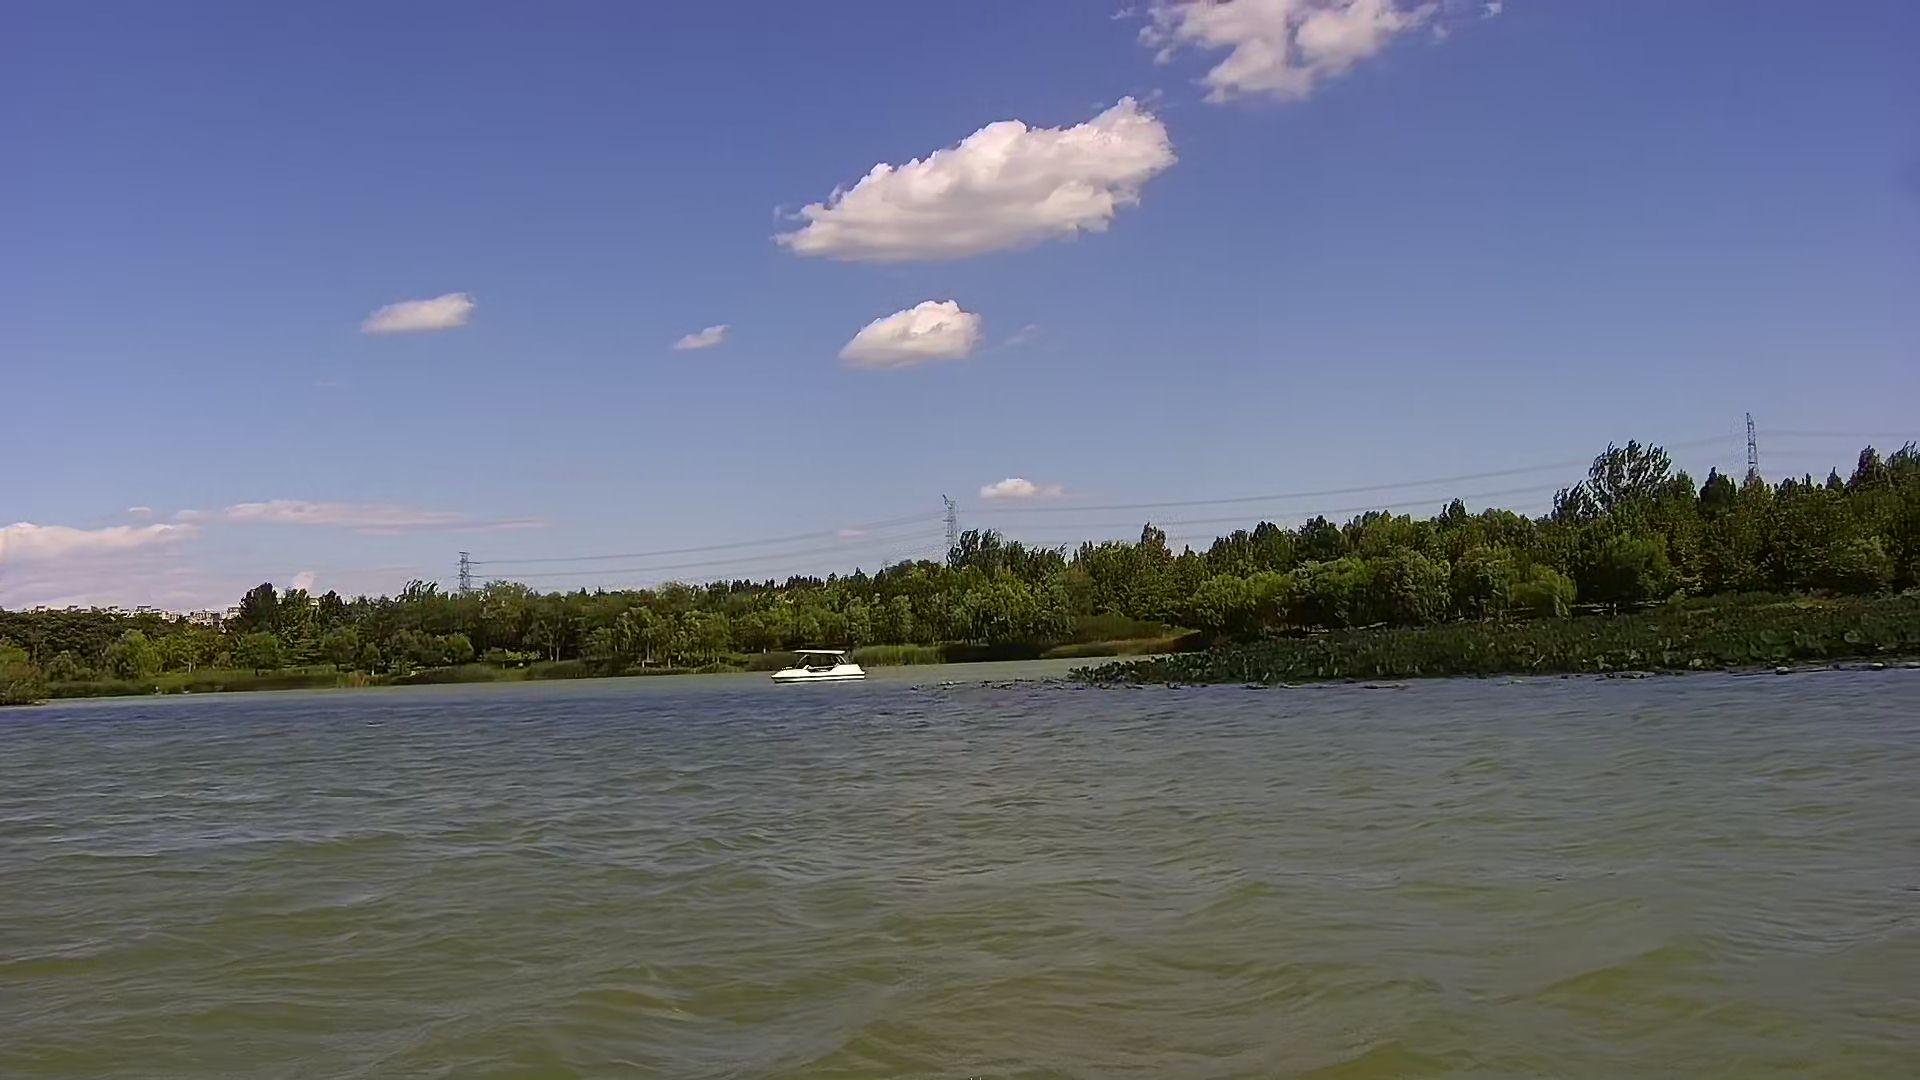boat: (767, 647, 862, 688)
